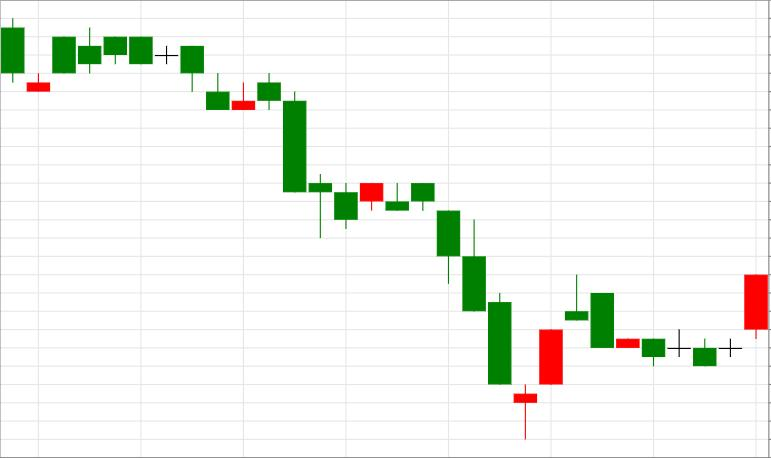morning_star_rise: (257, 74, 562, 441)
